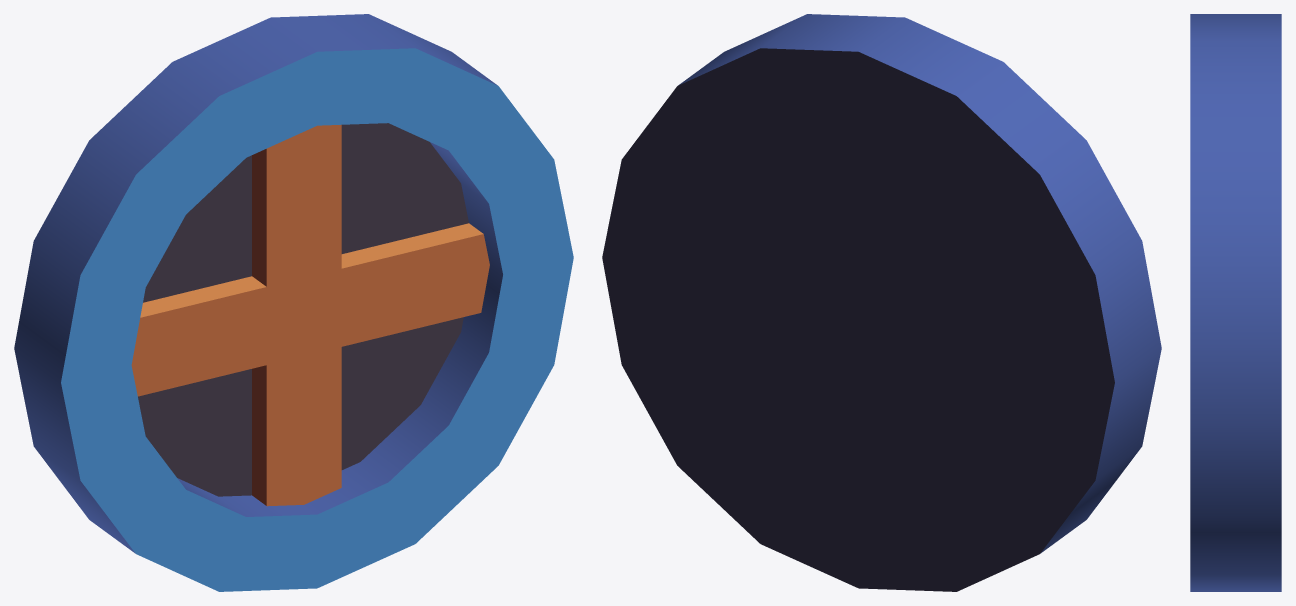
File: SmallWindow02_Blue_Wood.glb
3 views of the same model, side by side, from view 1: azimuth 30°, elevation 25°; view 2: azimuth 150°, elevation 25°; view 3: azimuth 270°, elevation 25° (orthographic). The views are drawn at different scales.
Parts seen in each view (by area): view 1: SmallWindow02_Blue_Wood; view 2: SmallWindow02_Blue_Wood; view 3: SmallWindow02_Blue_Wood.
Boxes of the visible parts, box(x1,y1,x2,y2) form: SmallWindow02_Blue_Wood: box(14, 14, 573, 591); SmallWindow02_Blue_Wood: box(602, 14, 1161, 591); SmallWindow02_Blue_Wood: box(1190, 14, 1281, 591).
Bounding box in the file's own units: 0.5633 × 0.5633 × 0.089.
1 material, 1 textured.
